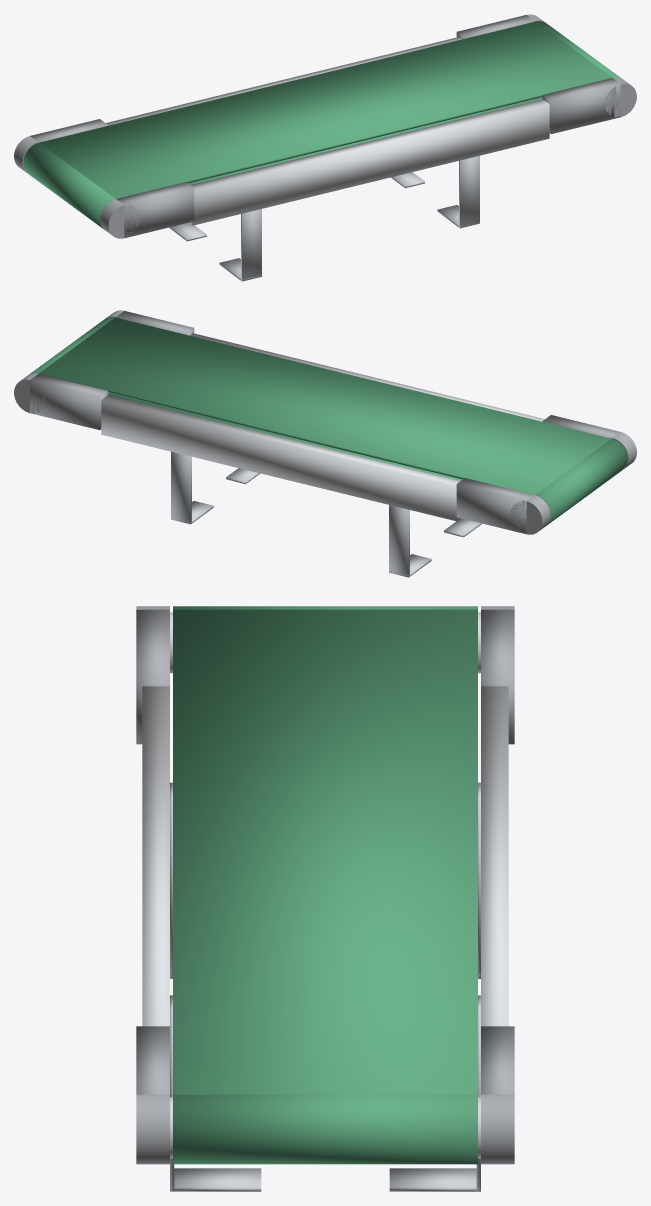
Rendered from conveyor.glb.
The picture shows the model from 3 angles, top to bottom: view 1: azimuth 30°, elevation 25°; view 2: azimuth 150°, elevation 25°; view 3: azimuth 270°, elevation 25°; orthographic projection. The views are drawn at different scales.
Visible parts, largest first — view 1: Renderer Node; view 2: Renderer Node; view 3: Renderer Node.
Boxes of the visible parts, x1,y1,x2,y2 form: Renderer Node: [14, 14, 636, 281]; Renderer Node: [14, 310, 636, 577]; Renderer Node: [136, 606, 514, 1191].
Bounding box in the file's own units: 0.4 × 0.082 × 0.124.
